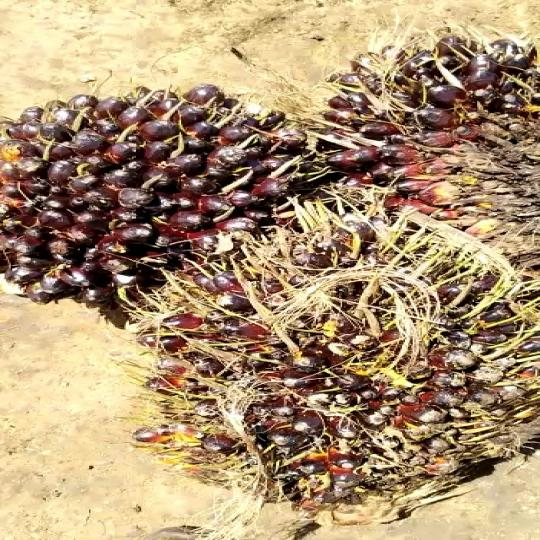mentah: (119, 201, 540, 524), (0, 73, 305, 299), (292, 16, 540, 253)
